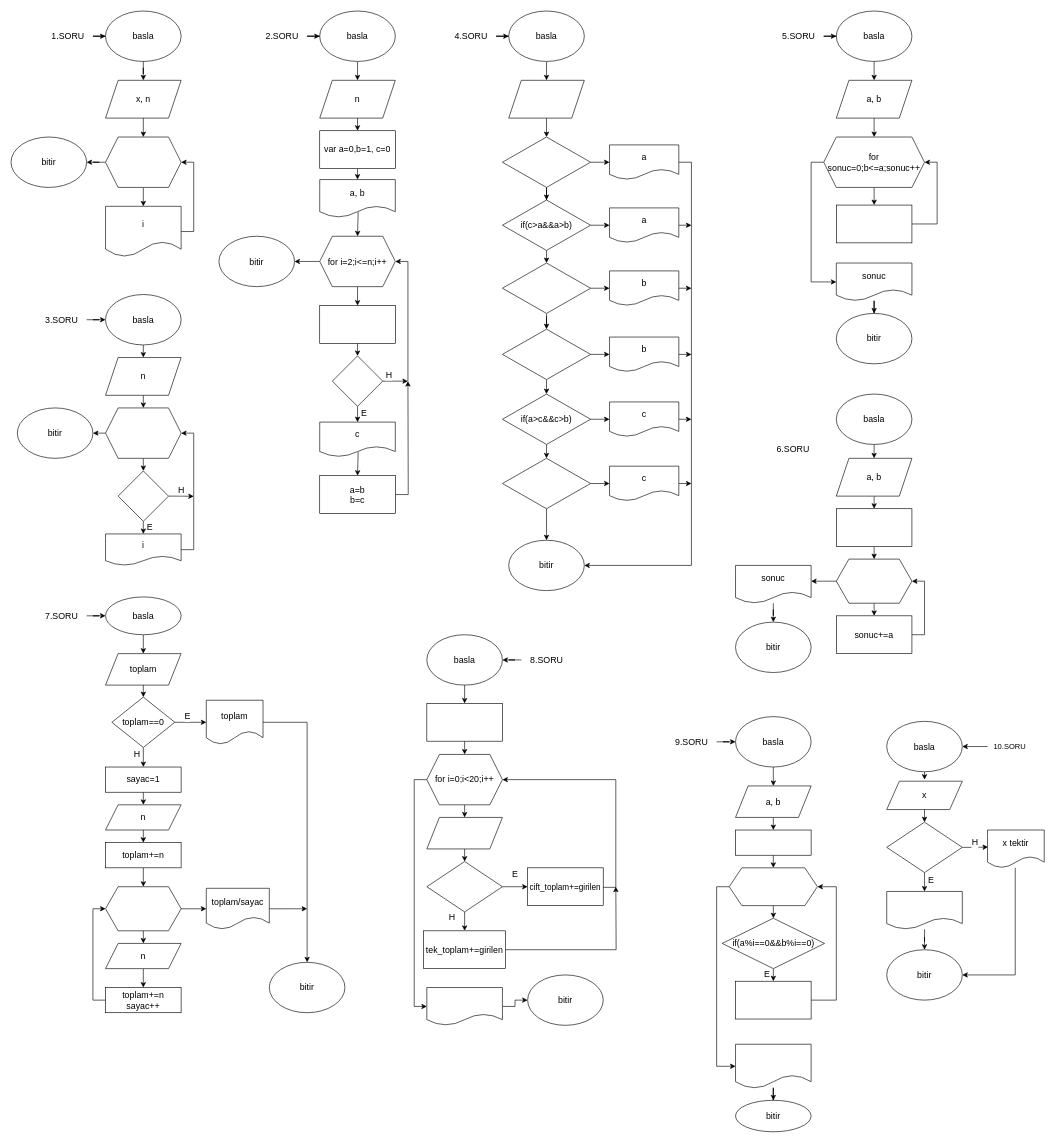
This 1055x1143 diagram has some shape labels left out. Each missing label, with the centre of its shape:
"a = a - b" belongs at point (874, 223).
"a, b, c" belongs at point (546, 99).
"c = a + b" belongs at point (357, 324).
"for i=0;i<=n/2;i++" belongs at point (143, 432).
"for i=1;i<=b;i++" belongs at point (874, 580).
"for i=x;i<=n;i++" belongs at point (143, 161).
"for(i=1;i<=a&&i<=b)" belongs at point (773, 886).
"girilen" belongs at point (464, 833).
"if(a>b&&b>c)" belongs at point (546, 287).
"if(b>a&&a>c)" belongs at point (546, 161).
"if(b>c&&c>a)" belongs at point (546, 483).
"if(c<=n)" belongs at point (357, 380).
"if(c>b&&b>a)" belongs at point (546, 354).
"if(girilen%2==0)" belongs at point (464, 886).
"if(n%i==0)" belongs at point (143, 495).
"if(x%2==0)" belongs at point (924, 847).
"obeb" belongs at point (773, 842).
"OBEB(a,b)=obeb" belongs at point (773, 1066).
"obeb=i" belongs at point (773, 1000).
"sonuc=0" belongs at point (874, 527).
"tek_toplam cift_toplam" belongs at point (464, 1006).
"tek_toplam=0 cift_toplam=0 girilen" belongs at point (464, 722).
"while (n!=0)" belongs at point (143, 908).
"x çifttir" belongs at point (924, 910).
